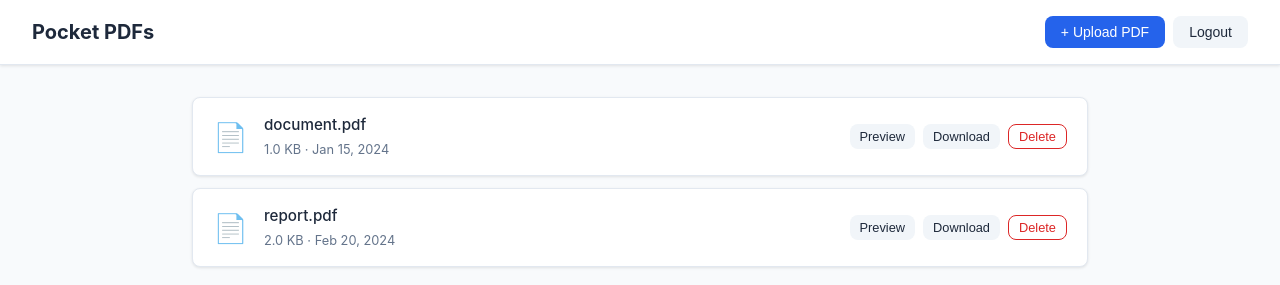
Test: Dashboard › delete › removes the file from the list after confirming deletion
The width and height of the screenshot is (1280, 285).
Check: the text "document.pdf" is shown, box [264, 115, 366, 134]
Click the button "Delete" in the row of "Jan 15, 2024": click(1038, 137) [1008, 124, 1067, 149]
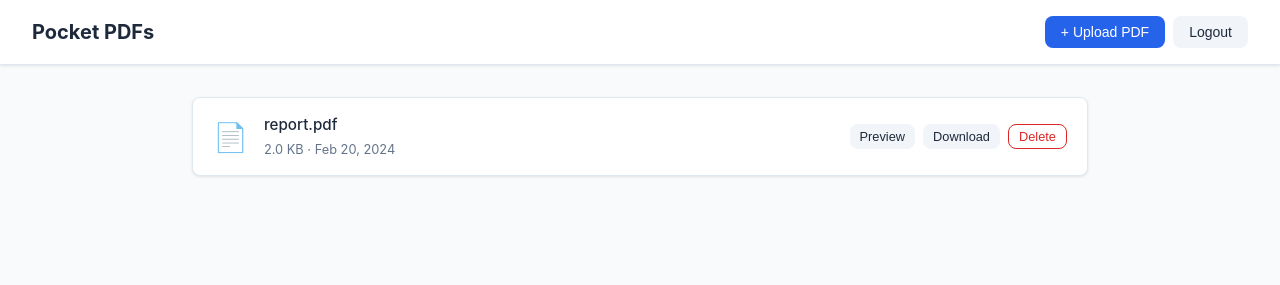
Check: the text "report.pdf" is shown, box [264, 115, 337, 134]
Check: the text "document.pdf" is gone
